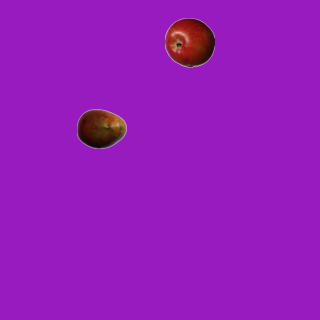Apple Braeburn: (164, 17, 214, 67)
Mango Red: (76, 103, 126, 153)
